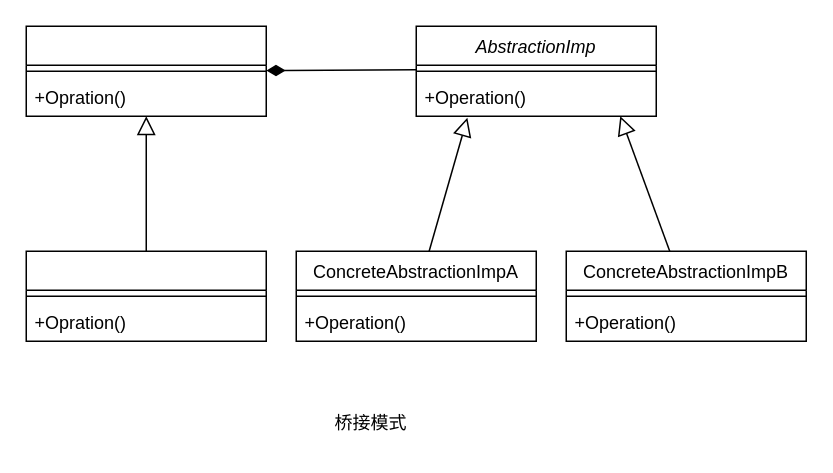
This 833x473 diagram has some shape labels left out. The shapes that lost their labels are listed below. From the top down, each one's box as (x1, y1, x2, y2) in pixels, then its label:
(25, 25, 266, 116): Abstraction
(25, 250, 266, 341): RefinedAbstraction
